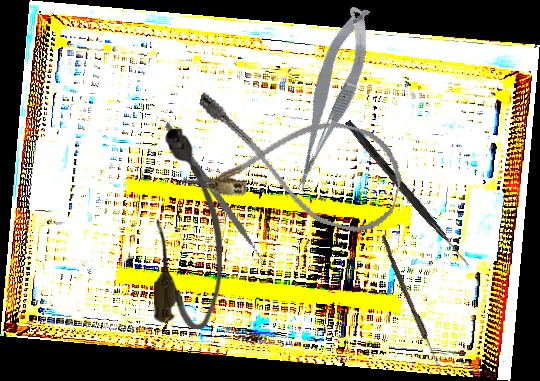Cannula: (177, 86, 412, 241), (154, 128, 222, 329)
Chopper: (125, 121, 300, 276)
Hook Surgical: (342, 119, 474, 268)
Micro Scissor: (270, 0, 389, 196)
Surgical Spoon: (378, 235, 445, 374)
